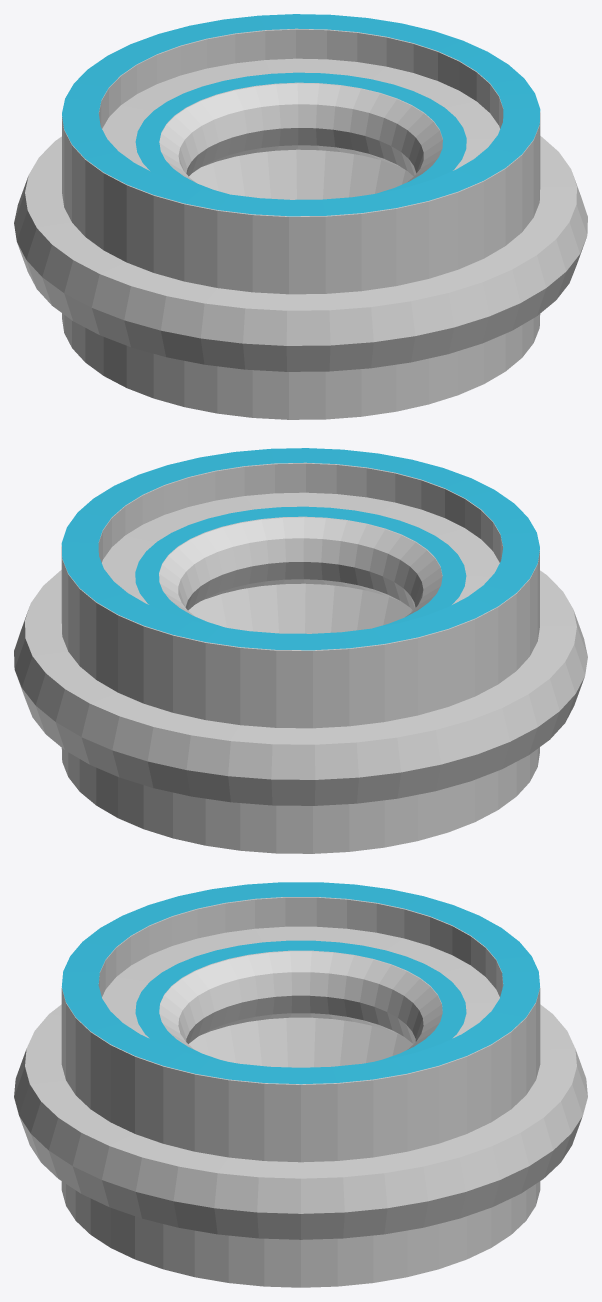
Rendered from Baptiste - Torus obsatcle V1.fbx.
3 views of the same model, one above another, from view 1: azimuth 30°, elevation 25°; view 2: azimuth 150°, elevation 25°; view 3: azimuth 270°, elevation 25° (orthographic).
Visible parts, largest first — view 1: Torus, Torus.001; view 2: Torus, Torus.001; view 3: Torus, Torus.001.
Part boxes in pixels (x1,y1,x2,y2): Torus: [14, 28, 587, 419]; Torus.001: [62, 14, 540, 216]; Torus: [14, 462, 587, 853]; Torus.001: [61, 448, 539, 650]; Torus: [14, 897, 587, 1287]; Torus.001: [61, 882, 539, 1084].
Size of the model in its own units: 21.9 by 8.65 by 21.92.
